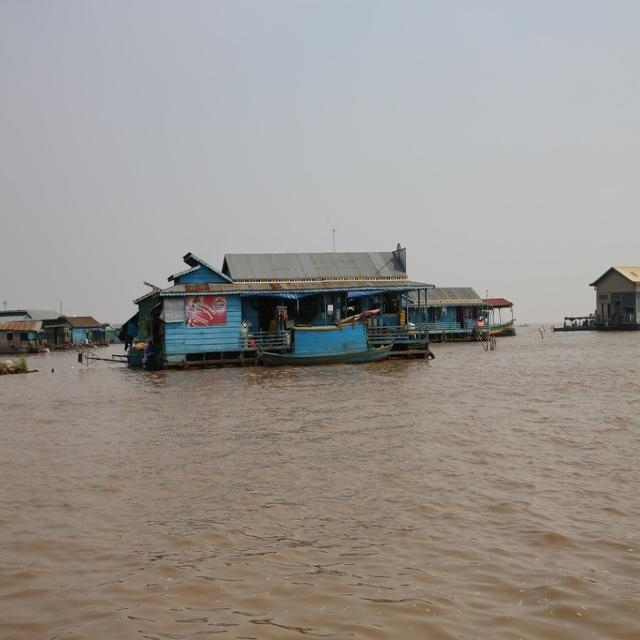boat: (256, 324, 395, 367)
